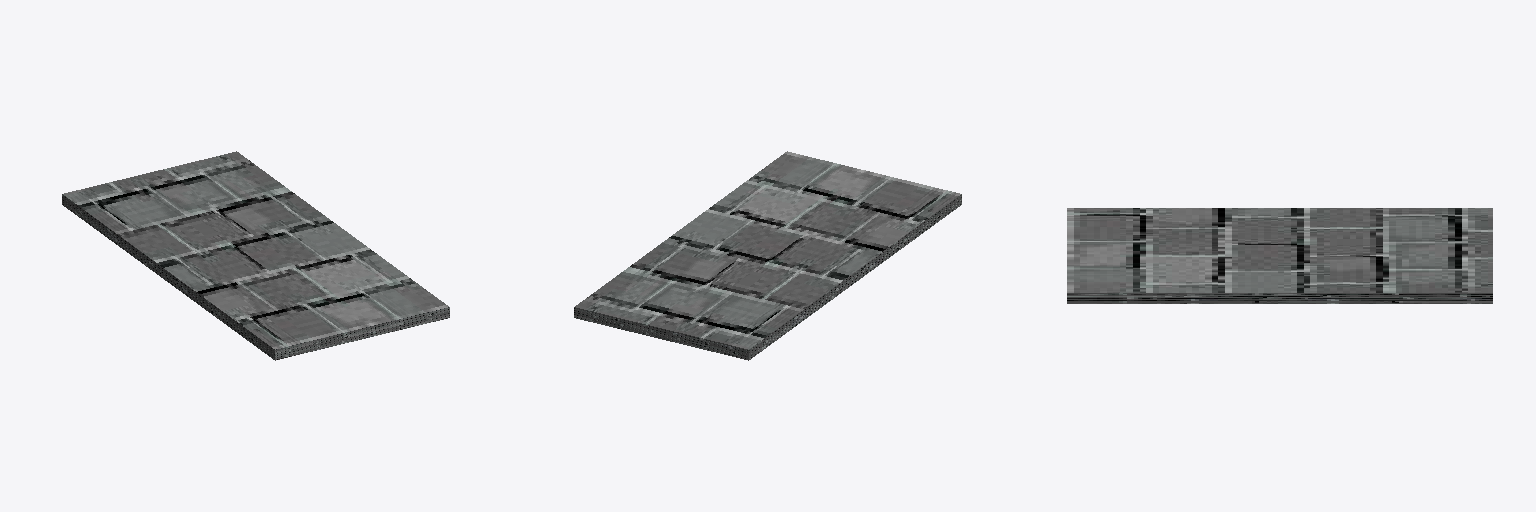
3 renders of one model, left to right at view 1: azimuth 30°, elevation 25°; view 2: azimuth 150°, elevation 25°; view 3: azimuth 270°, elevation 25°, orthographic.
Visible parts, largest first — view 1: 立方体; view 2: 立方体; view 3: 立方体.
Part boxes in pixels (left/top/right/bottom): 立方体: left=62, top=151, right=449, bottom=360; 立方体: left=574, top=151, right=961, bottom=360; 立方体: left=1067, top=208, right=1492, bottom=303.
Bounding box in the file's own units: 11.08 × 0.6656 × 23.38.
Materials: 1 (1 with a texture image).